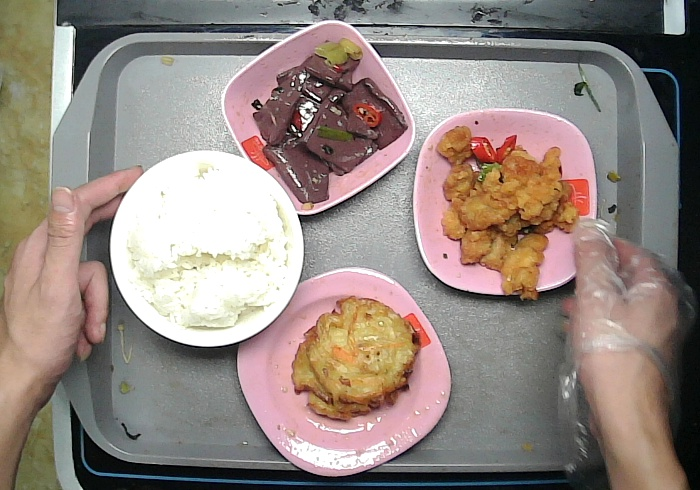SHKJ-Fan_Wan: (110, 151, 306, 346)
SHKJ-Fen_Se_Cai_Die: (413, 107, 599, 295)
SHKJ-Fen_Se_Si_Fang_Cai_Die: (236, 267, 451, 476)
SHKJ-Fen_Se_Xiao_Fang_Die: (221, 19, 417, 216)
